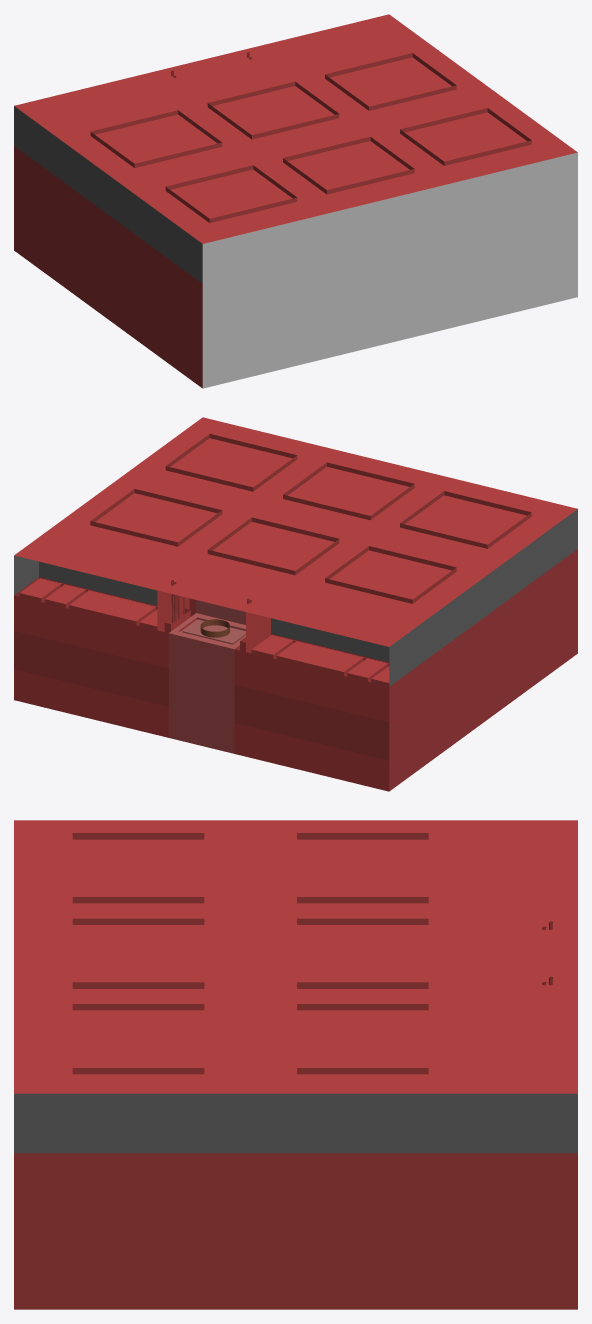
The model's file is workshop.obj.
3 renders of one model, top to bottom at view 1: azimuth 30°, elevation 25°; view 2: azimuth 150°, elevation 25°; view 3: azimuth 270°, elevation 25°, orthographic. The views are drawn at different scales.
Visible parts, largest first — view 1: level_Plane; view 2: level_Plane; view 3: level_Plane.
Part boxes in pixels (<box>): level_Plane: <box>14,14,577,388</box>; level_Plane: <box>14,417,577,791</box>; level_Plane: <box>14,820,577,1309</box>.
Bounding box in the file's own units: 18.74 × 7.13 × 16.34.
